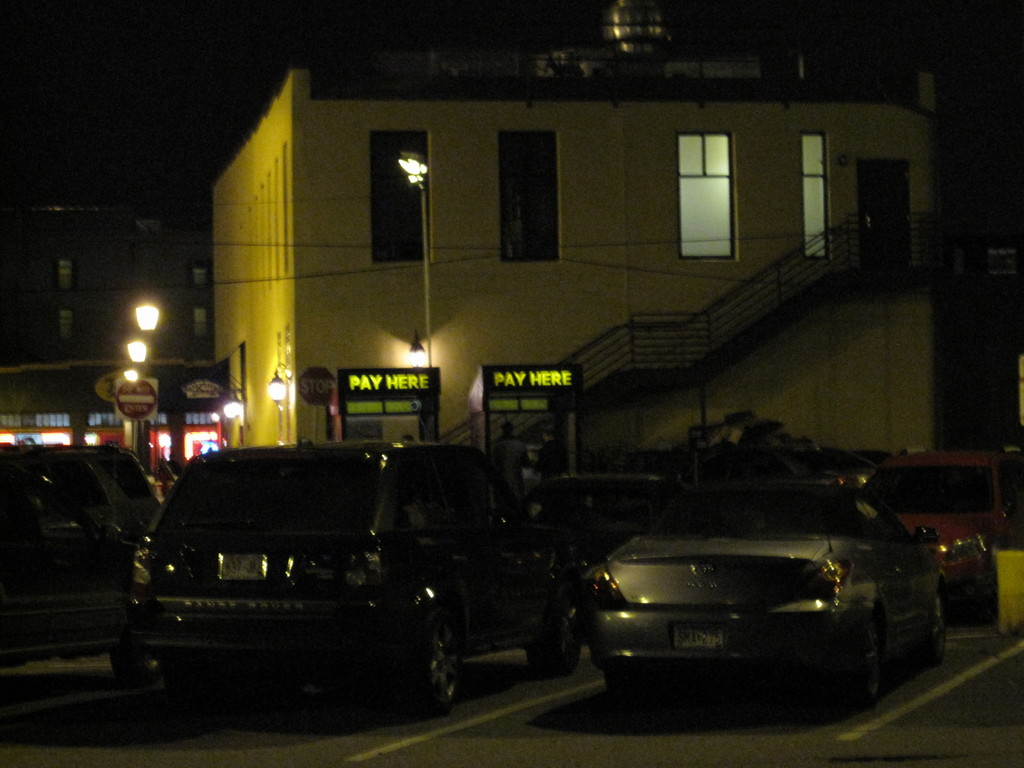cars: (121, 442, 574, 718), (582, 487, 943, 725), (0, 447, 157, 669), (868, 472, 1000, 627)
